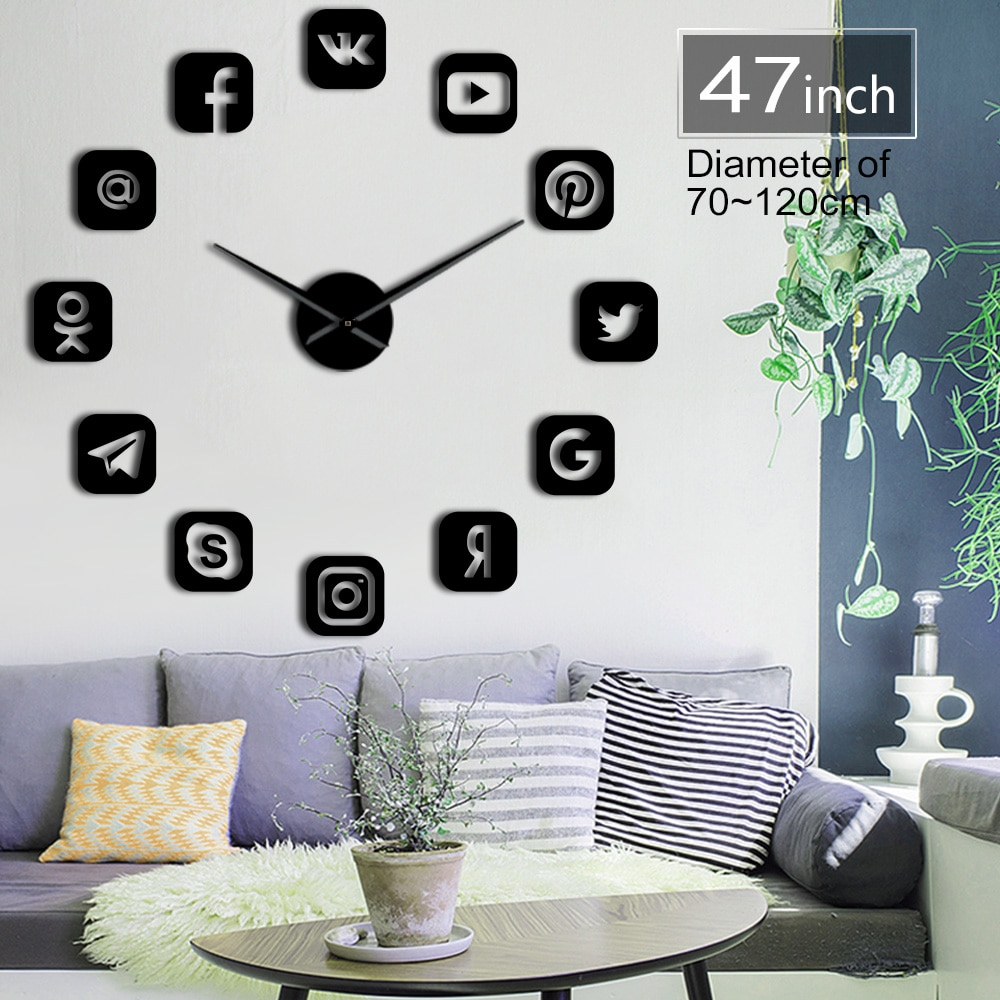jam dinding: (24, 2, 679, 622)
